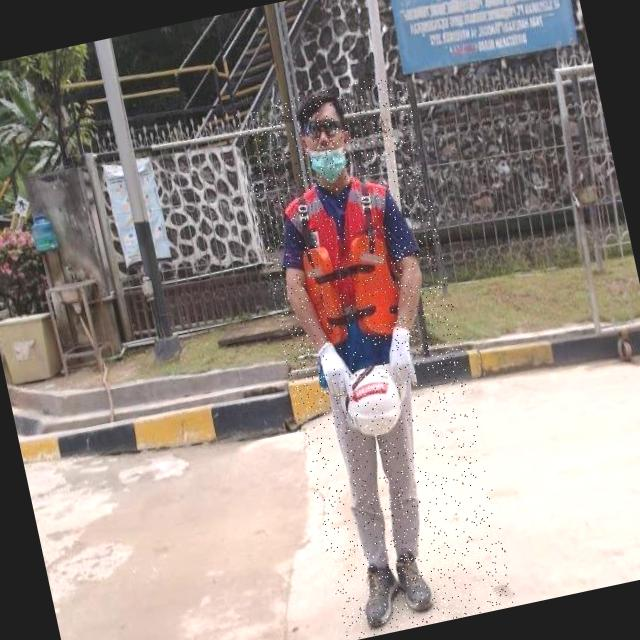gloves: (380, 312, 429, 386), (308, 327, 358, 399)
helmet: (335, 360, 414, 440)
no-boots: (353, 557, 408, 631), (392, 545, 434, 615)
no-helmet: (280, 78, 363, 193)
vest: (278, 168, 427, 386)
